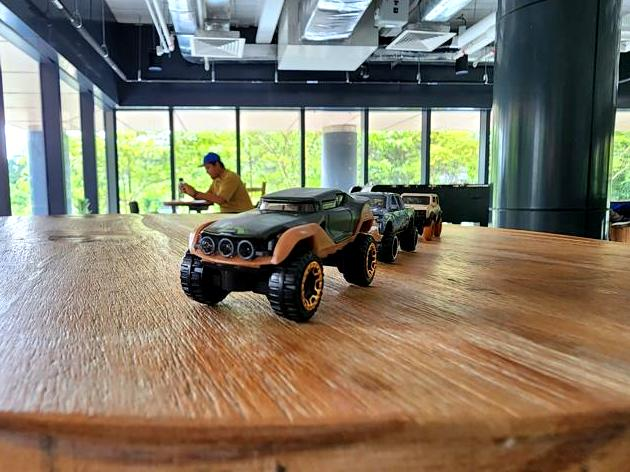toy-car: (180, 188, 378, 321), (350, 191, 419, 261), (401, 194, 443, 241)
